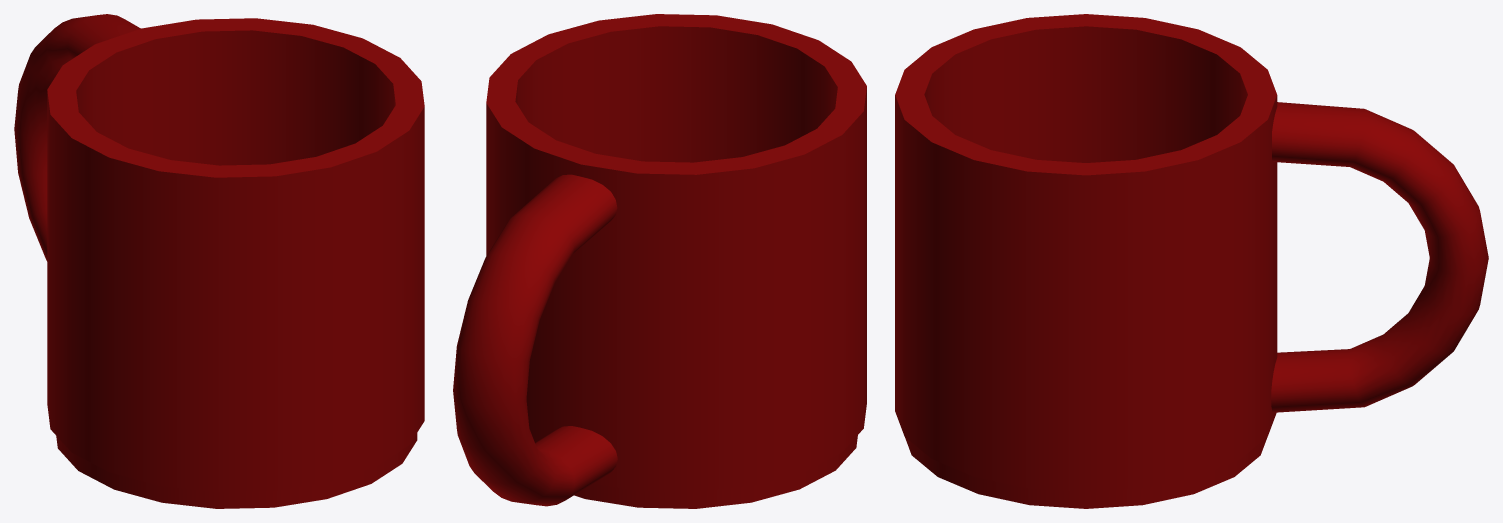
File: mug.fbx
The picture shows the model from 3 angles, left to right: view 1: azimuth 30°, elevation 25°; view 2: azimuth 150°, elevation 25°; view 3: azimuth 270°, elevation 25°; orthographic projection.
Parts seen in each view (by area): view 1: group8_pCylinder5; view 2: group8_pCylinder5; view 3: group8_pCylinder5.
Part boxes in pixels (x1,y1,x2,y2): group8_pCylinder5: (14,14,424,508); group8_pCylinder5: (453,14,866,508); group8_pCylinder5: (895,14,1488,508).
Size of the model in its own units: 6.54 by 6.36 by 10.16.
